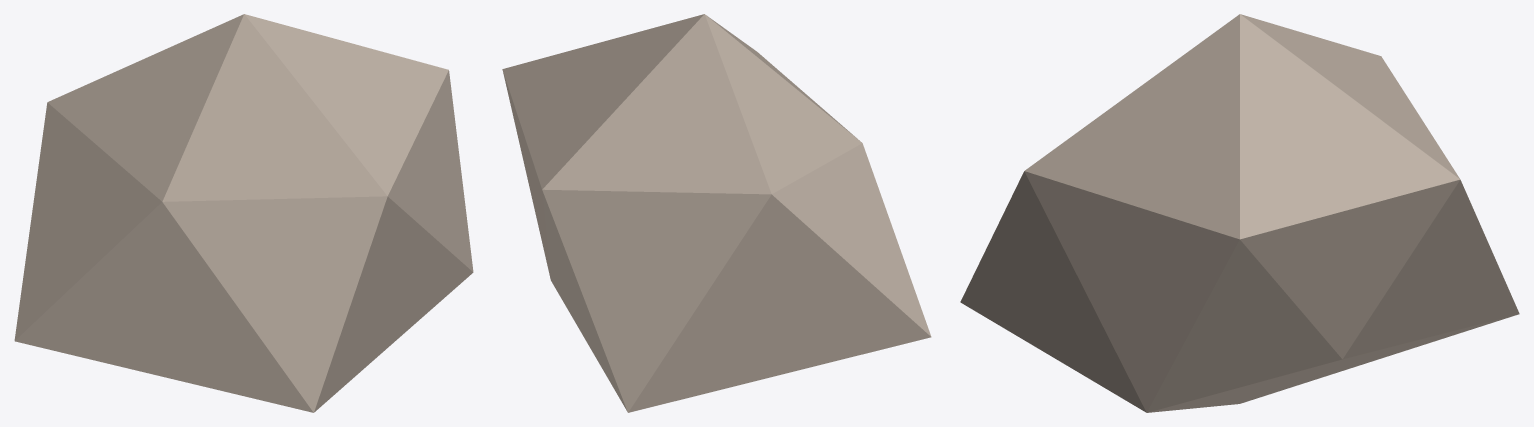
File: fx_dust.glb
3 views of the same model, side by side, from view 1: azimuth 30°, elevation 25°; view 2: azimuth 150°, elevation 25°; view 3: azimuth 270°, elevation 25° (orthographic). The views are drawn at different scales.
Parts seen in each view (by area): view 1: fx_dust; view 2: fx_dust; view 3: fx_dust.
Boxes of the visible parts, bbox=[...] form: fx_dust: bbox=[14, 14, 473, 412]; fx_dust: bbox=[502, 14, 931, 412]; fx_dust: bbox=[960, 14, 1519, 412].
Size of the model in its own units: 0.0408 by 0.0319 by 0.0415.
